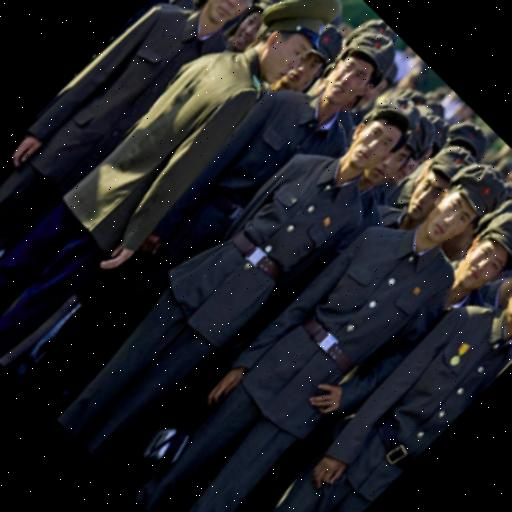north army: (15, 0, 335, 417)
